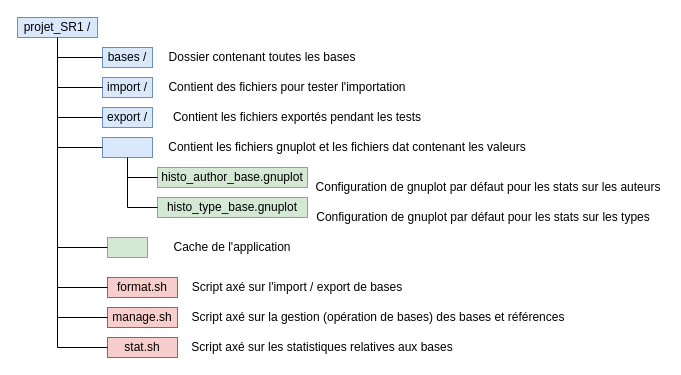
Some shapes in this 681 by 375 pixel diagram are drawn without their labels. Each missing label, with the box of its shape:
cache: (106, 236, 148, 258)
gnuplot /: (102, 136, 152, 158)
